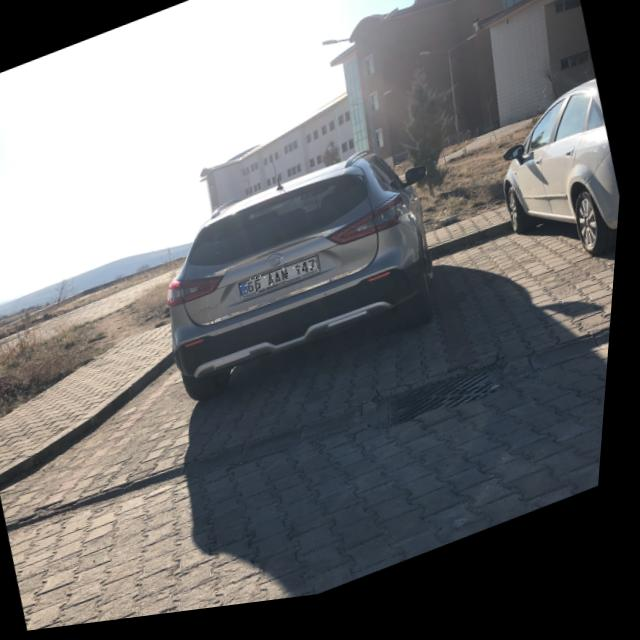license_plate: (243, 262, 325, 305)
